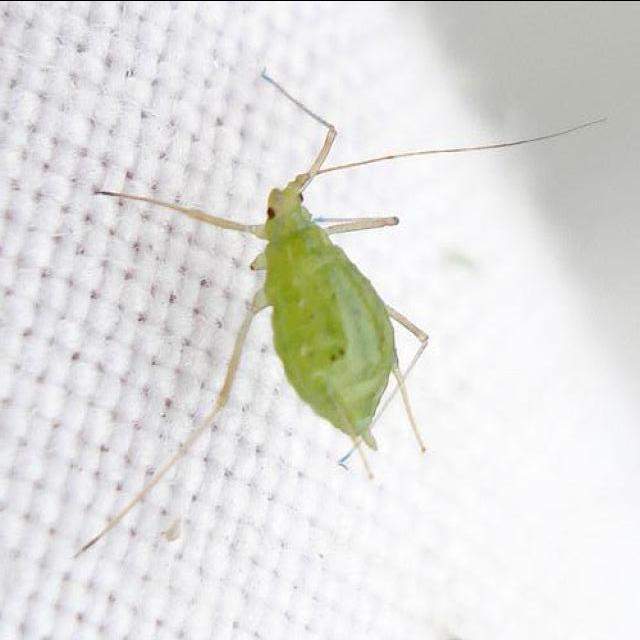aphid: (92, 70, 507, 550)
